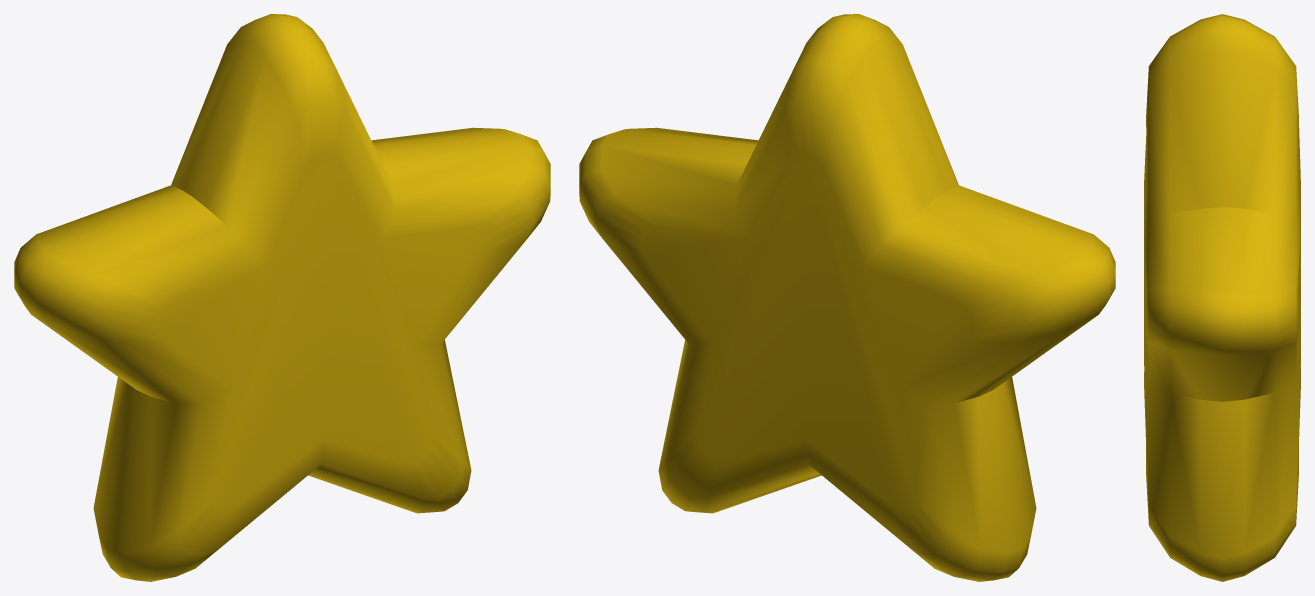
The model's file is star.fbx.
3 renders of one model, left to right at view 1: azimuth 30°, elevation 25°; view 2: azimuth 150°, elevation 25°; view 3: azimuth 270°, elevation 25°, orthographic. The views are drawn at different scales.
Parts seen in each view (by area): view 1: star; view 2: star; view 3: star.
Boxes of the visible parts, left/top/right/bottom form: star: left=14, top=14, right=550, bottom=581; star: left=579, top=14, right=1115, bottom=581; star: left=1144, top=14, right=1300, bottom=581.
Bounding box in the file's own units: 1.03 × 0.2834 × 0.9876.
